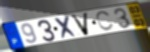3: (37, 18, 56, 43), (114, 7, 131, 29)
9: (21, 22, 39, 45)
C: (95, 10, 115, 32)
V: (70, 12, 90, 37)
X: (53, 15, 79, 40)
